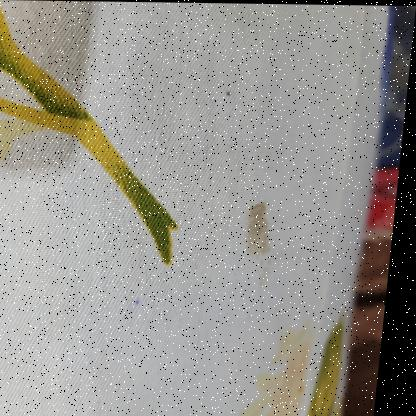spot: (244, 200, 284, 296), (139, 297, 150, 306), (225, 90, 236, 99), (0, 397, 6, 407)
